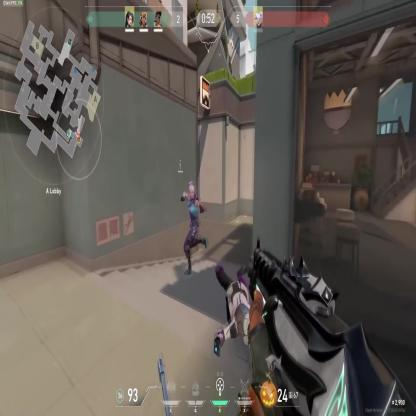enemy: (179, 182, 207, 276)
enemy_head: (189, 184, 195, 199)
